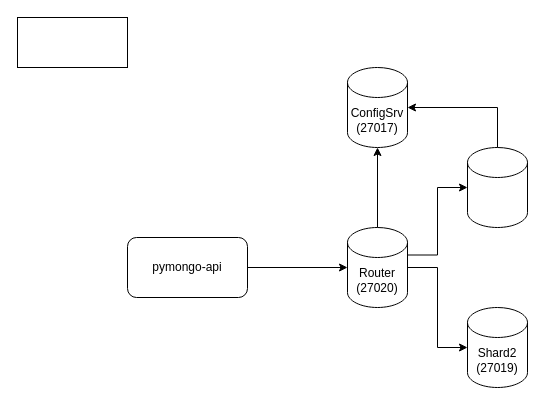
Image size: 545x405. Some labels were removed from this diagram. Each missing label, with the box of its shape:
Shard1 (27018): (466, 146, 528, 228)
Задание 2. Шардирование: (16, 16, 128, 68)
